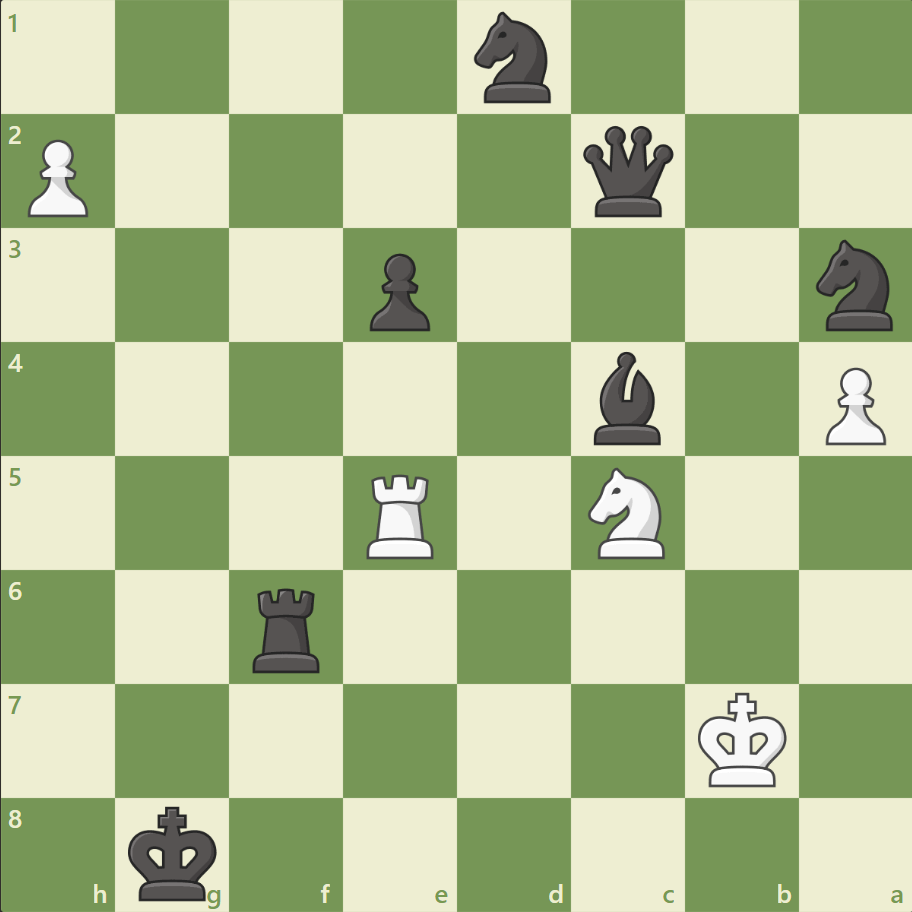K: (692, 685, 792, 793)
N: (579, 461, 676, 564)
P: (20, 132, 95, 223), (815, 359, 889, 450)
R: (360, 466, 442, 563)
b: (585, 347, 669, 449)
k: (124, 798, 224, 906)
n: (806, 234, 903, 337), (465, 7, 562, 110)
p: (361, 246, 435, 337)
q: (578, 122, 677, 222)
r: (246, 579, 329, 676)
